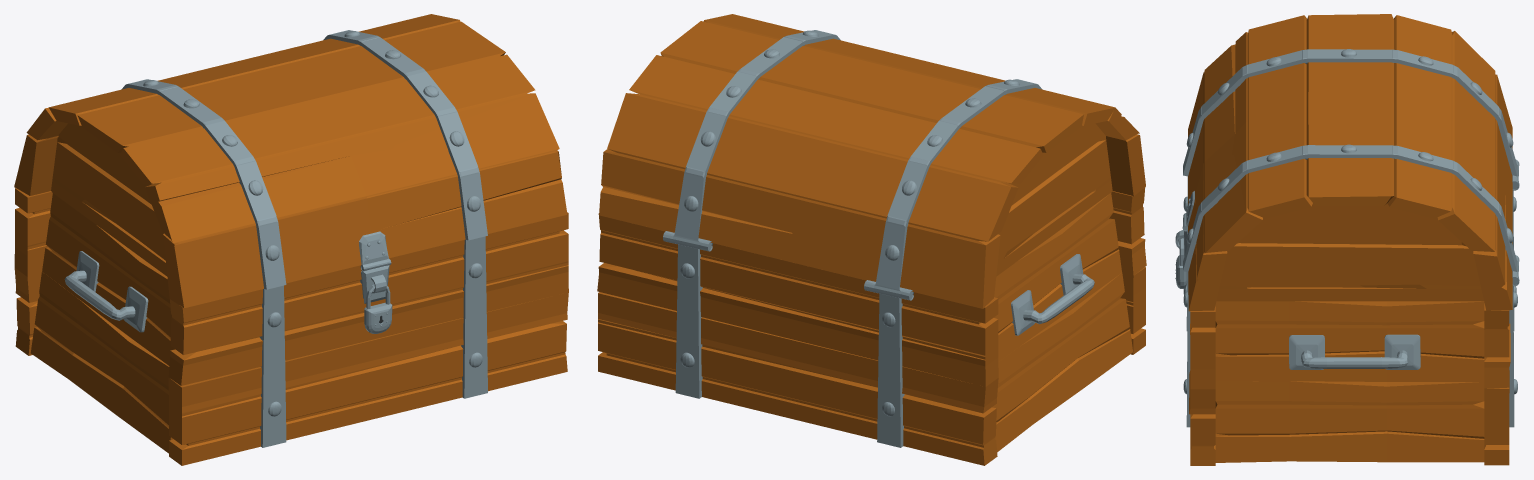
File: chest_textutre.fbx
The picture shows the model from 3 angles, left to right: view 1: azimuth 30°, elevation 25°; view 2: azimuth 150°, elevation 25°; view 3: azimuth 270°, elevation 25°; orthographic projection. The views are drawn at different scales.
Parts seen in each view (by area): view 1: top, bottom, lock_top, Lock; view 2: top, bottom; view 3: top, bottom.
Part boxes in pixels (x1,y1,x2,y2): top: (14, 14, 567, 308); bottom: (14, 188, 568, 465); lock_top: (361, 265, 389, 303); Lock: (364, 302, 392, 333); top: (599, 14, 1145, 308); bottom: (597, 187, 1146, 465); top: (1182, 14, 1519, 311); bottom: (1178, 176, 1517, 465).
Bounding box in the file's own units: 141 × 94.19 × 107.
